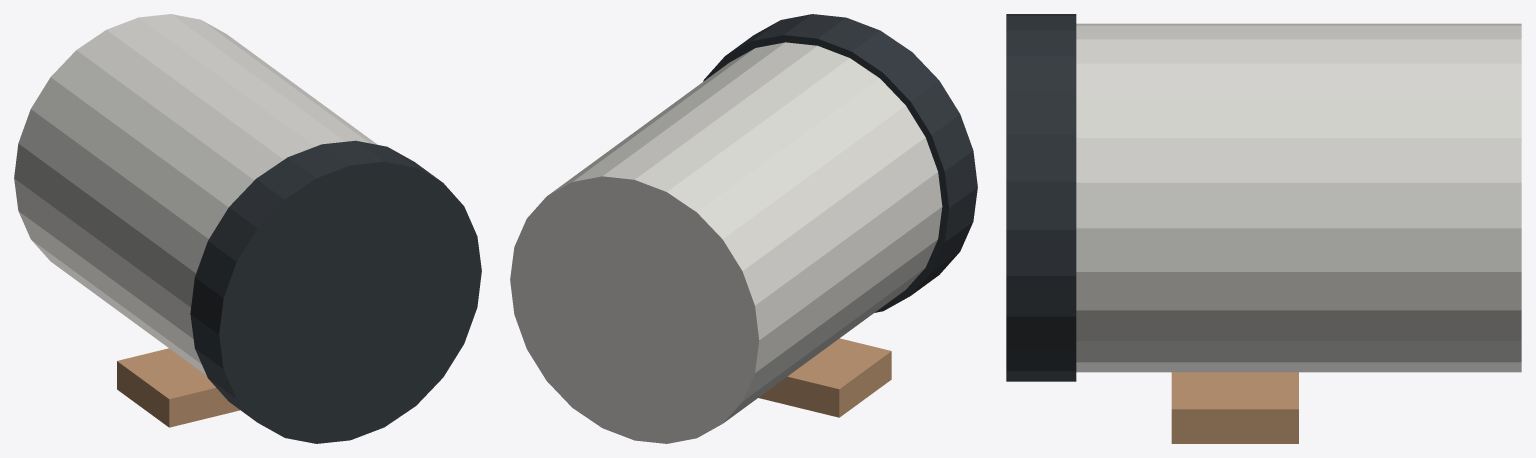
Rendered from COFFEE_TAKEOUT_001.glb.
3 views of the same model, side by side, from view 1: azimuth 30°, elevation 25°; view 2: azimuth 150°, elevation 25°; view 3: azimuth 270°, elevation 25° (orthographic). The views are drawn at different scales.
Parts seen in each view (by area): view 1: lid_001, paper_cup_000, sleeve_002; view 2: paper_cup_000, lid_001, sleeve_002; view 3: paper_cup_000, lid_001, sleeve_002.
Part boxes in pixels (box(x1,y1,x2,y2)): lid_001: box(190, 140, 481, 443); paper_cup_000: box(14, 14, 377, 375); sleeve_002: box(117, 348, 239, 427); paper_cup_000: box(510, 42, 942, 443); lid_001: box(703, 14, 977, 312); sleeve_002: box(758, 338, 891, 417); paper_cup_000: box(1076, 23, 1521, 372); lid_001: box(1006, 14, 1076, 381); sleeve_002: box(1171, 372, 1298, 443).
Bounding box in the file's own units: 0.116 × 0.12 × 0.162.
